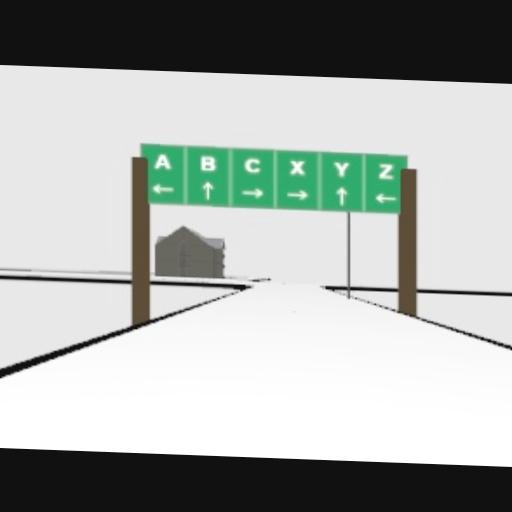A: (154, 152, 170, 168)
B: (200, 153, 216, 170)
C: (244, 155, 260, 172)
Left: (372, 191, 396, 202), (152, 182, 174, 192)
Right: (240, 186, 264, 197), (286, 188, 308, 198)
Straight: (334, 185, 346, 204), (202, 180, 212, 199)
X: (289, 159, 305, 173)
Y: (332, 159, 348, 176)
Z: (378, 161, 394, 178)
